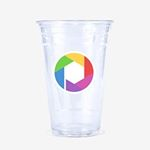cups: (33, 16, 119, 140)
